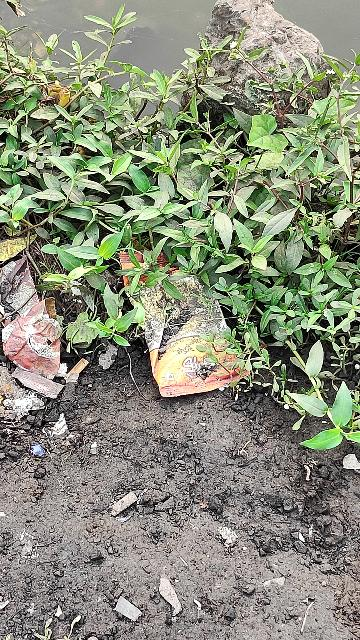packet: (112, 230, 254, 409)
